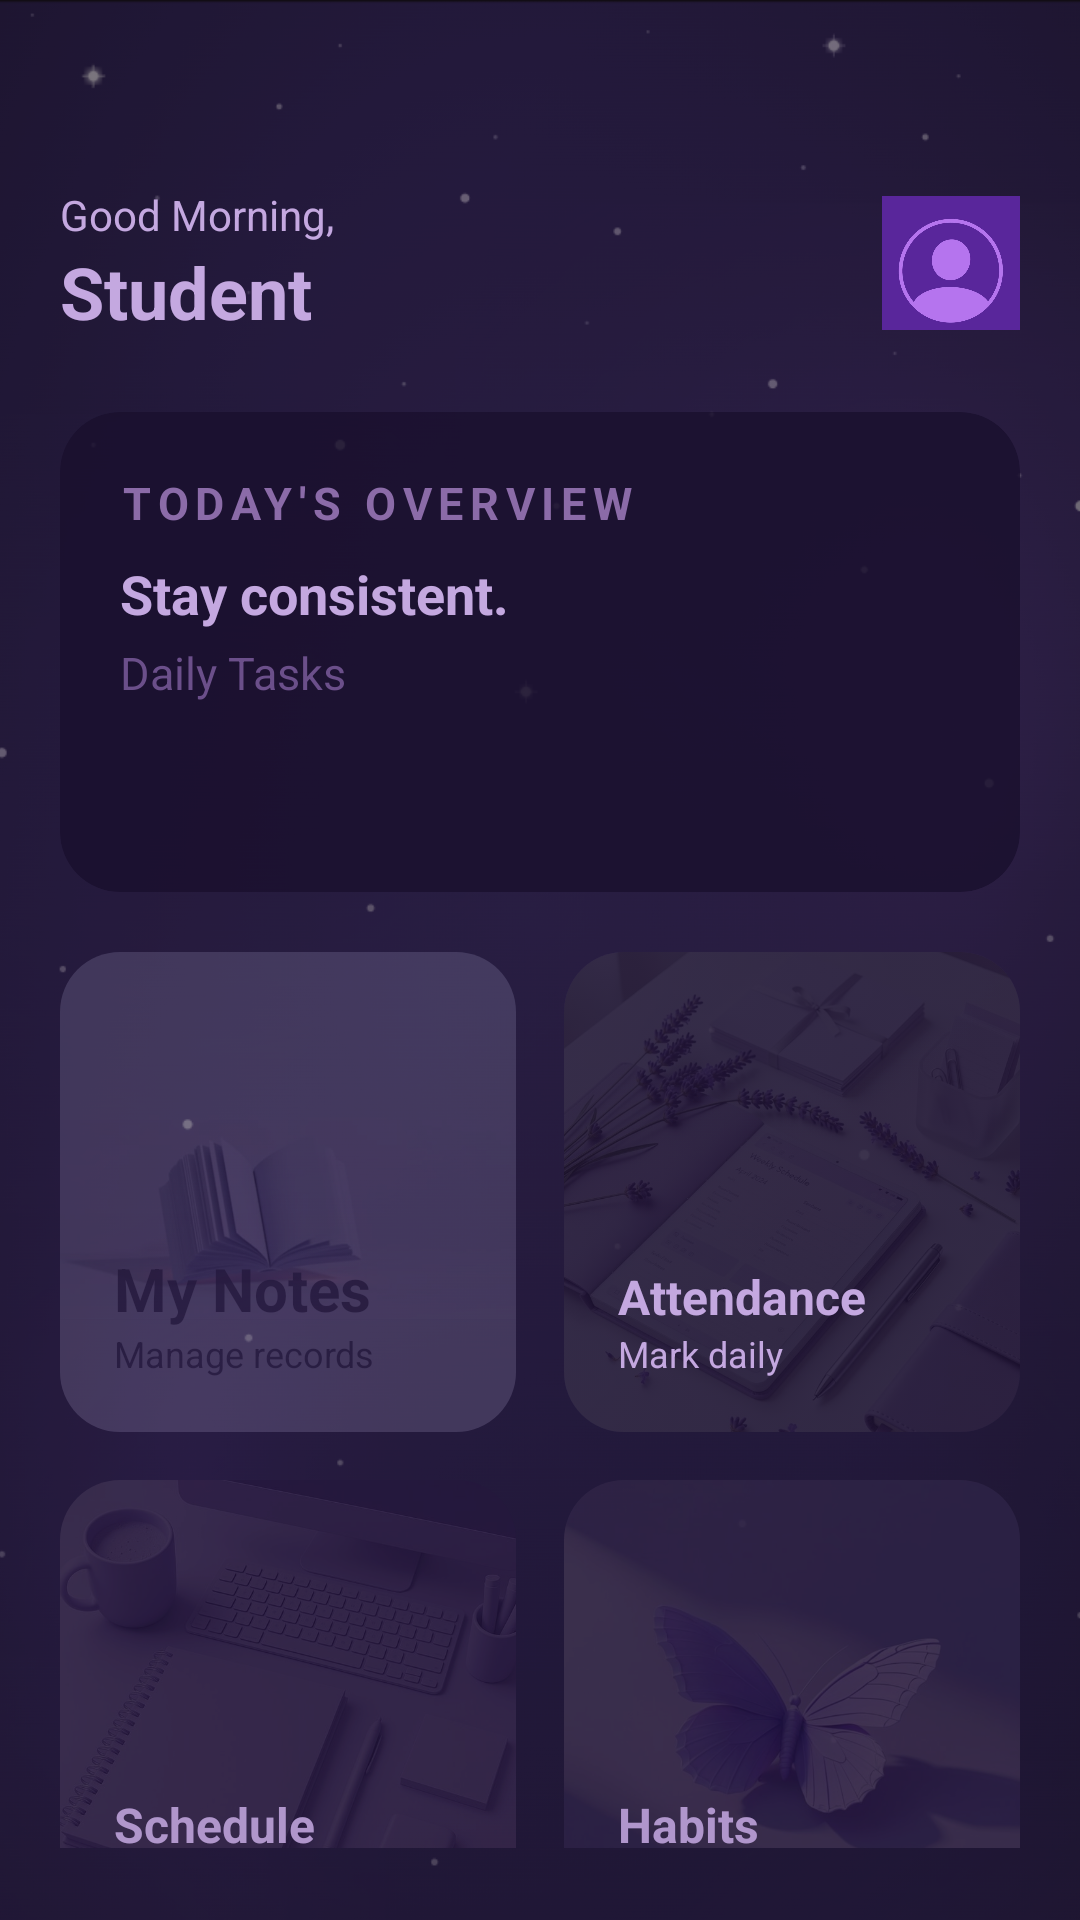

Named icons in this screenshot (1080x1920) and their centers, (x,y):
profile: (951,263)
